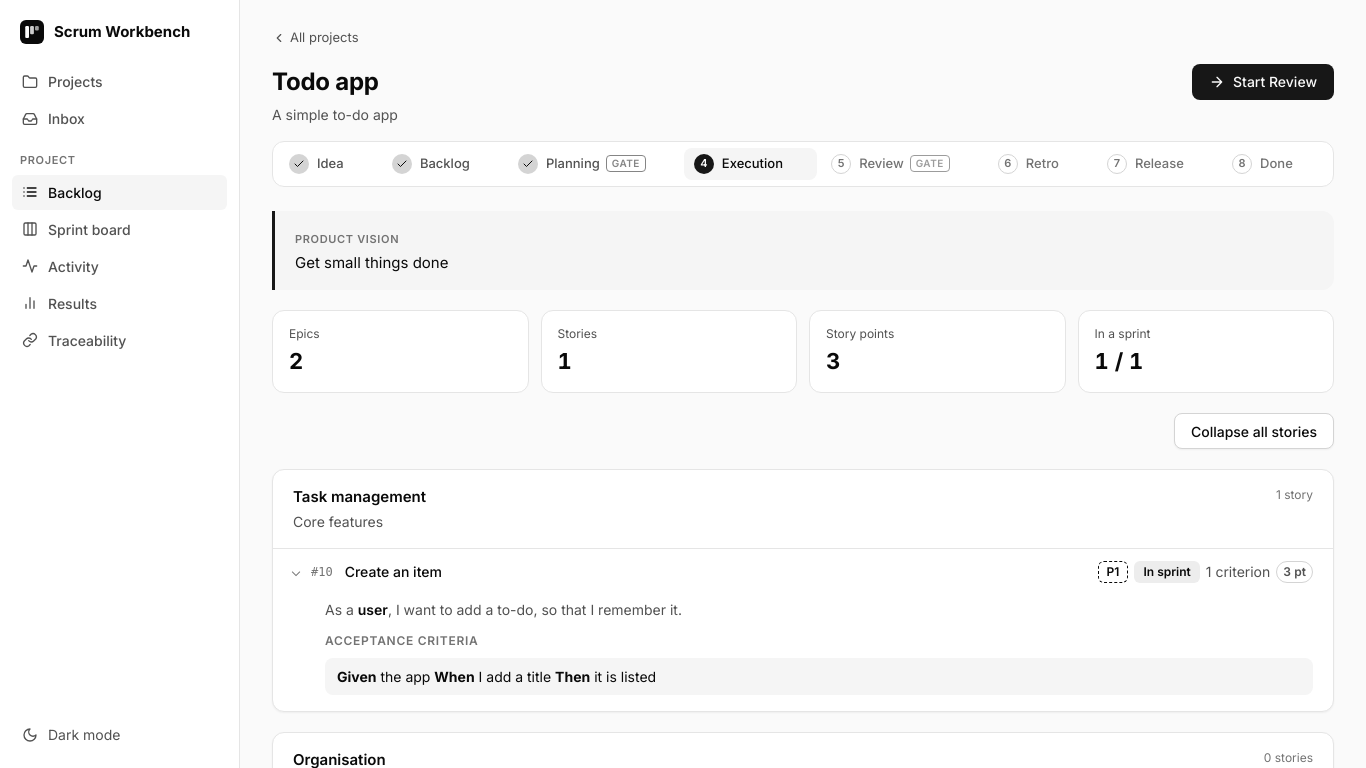
Test case: BacklogPage › collapses and expands every story
Expected: the text "Create an item" is shown, [345,563,442,580]
Click the button "Collapse all stories" at (1254, 431), box [1174,413,1334,449]
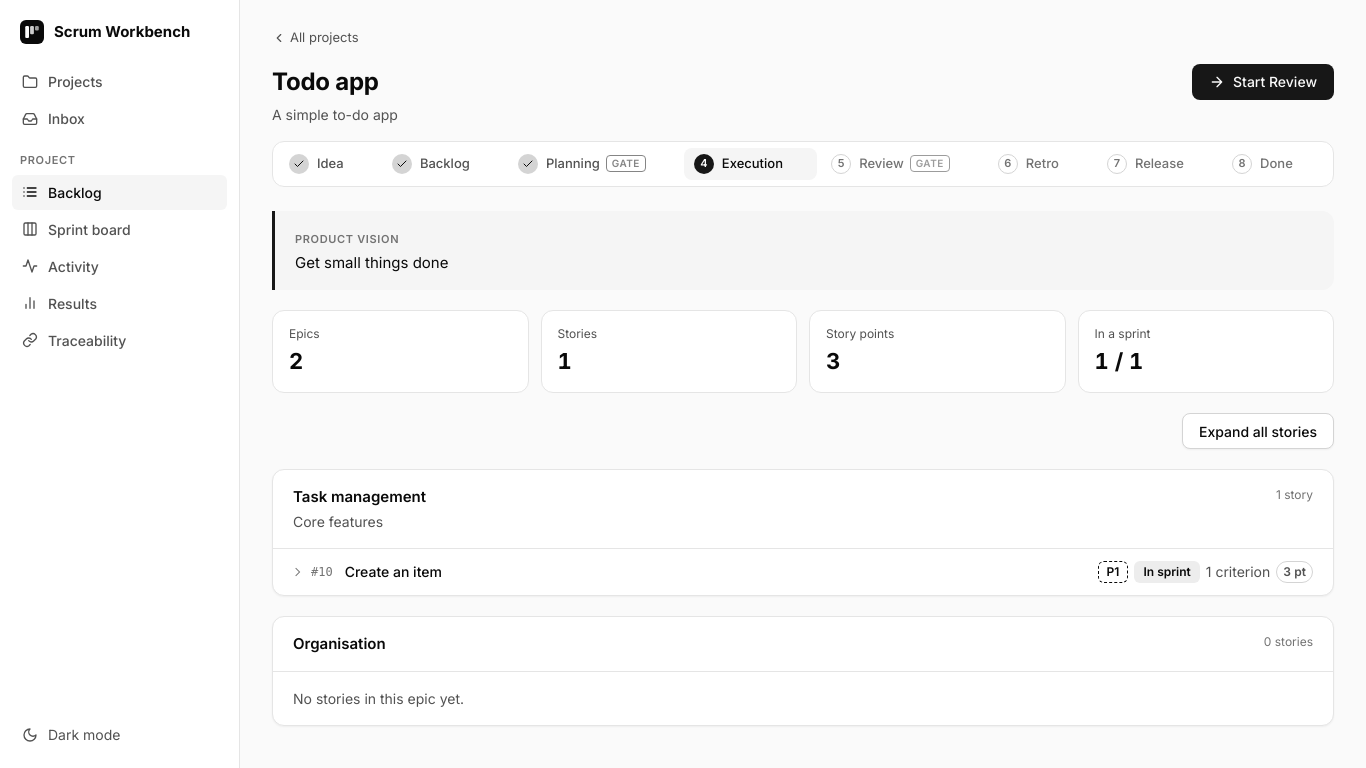
Expected: the text "to add a to-do" is gone
Click the button "Expand all stories" at (1258, 431), box [1182,413,1334,449]
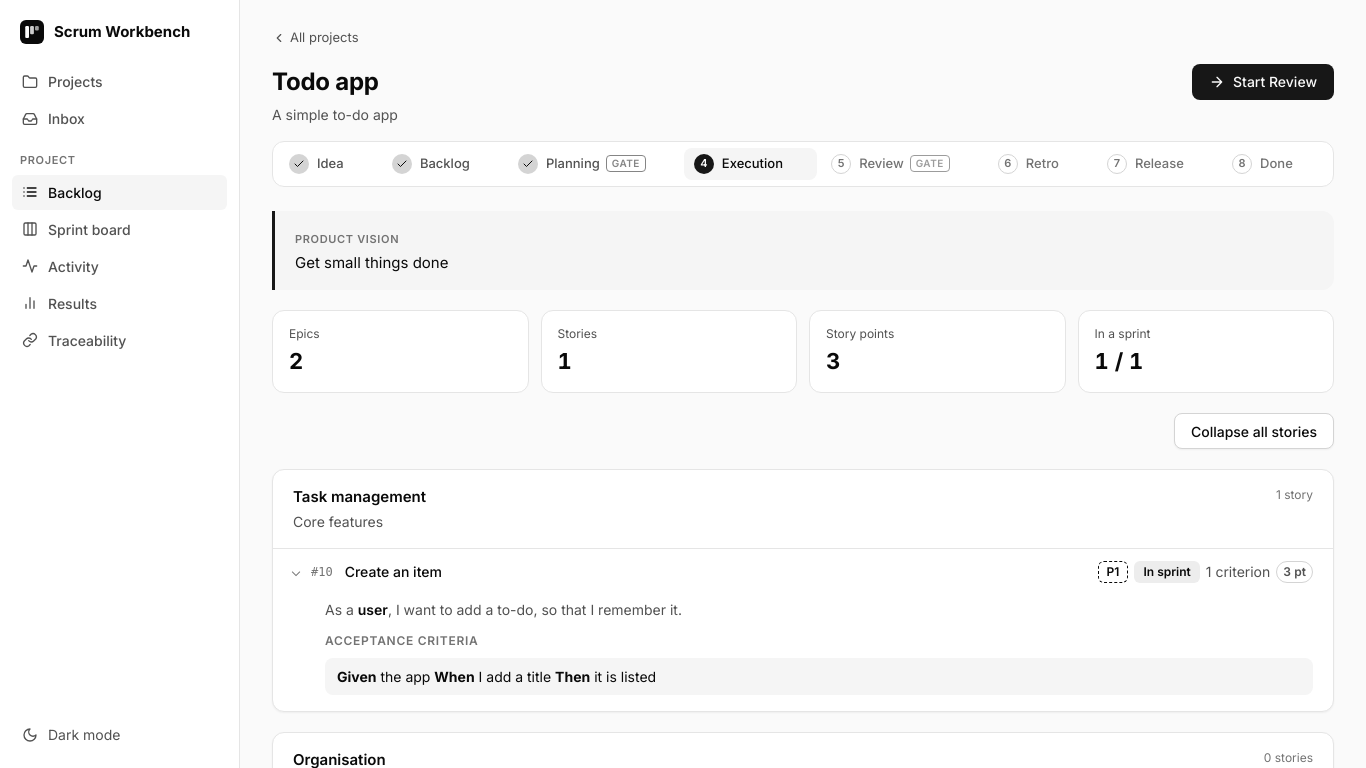
Expected: the text "As a user, I want to add a to-do, so that I remember it." is shown, [325,600,682,618]
